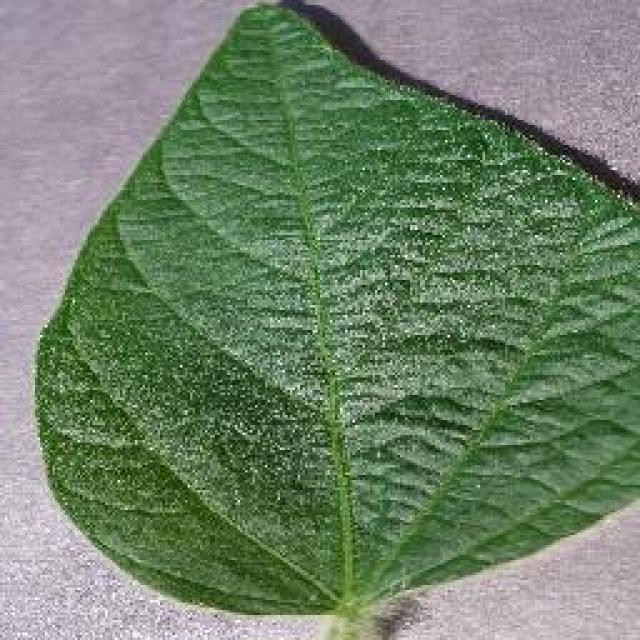Soy_healthy: (78, 36, 613, 574)
